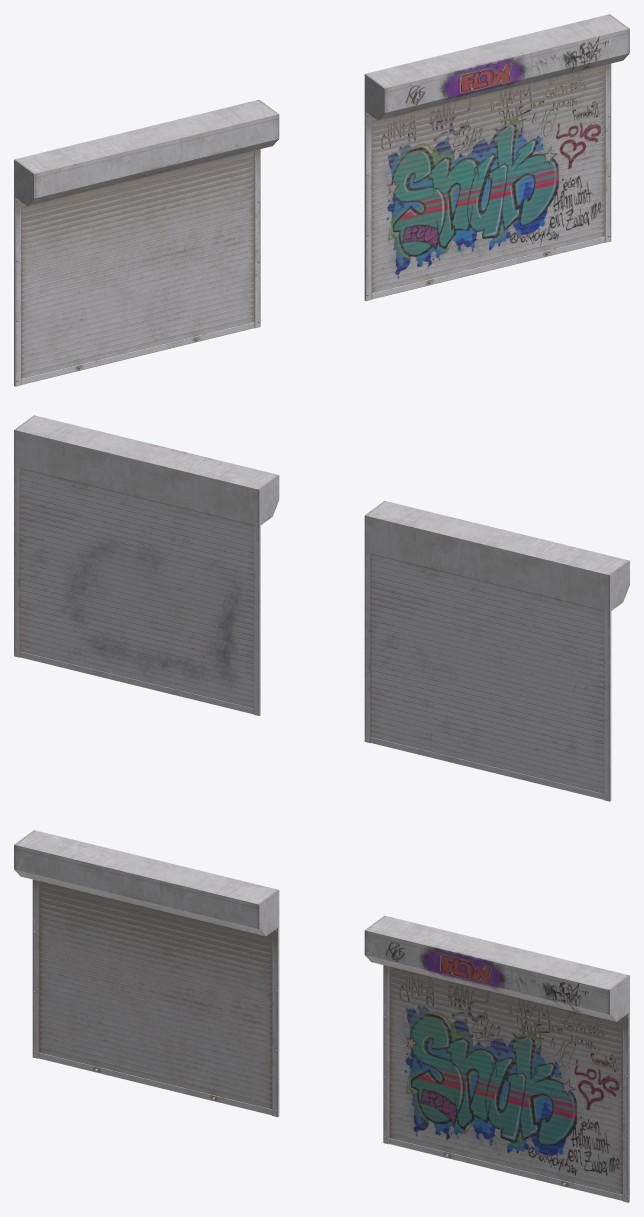
The model's file is window.glb.
The picture shows the model from 3 angles, top to bottom: view 1: azimuth 30°, elevation 25°; view 2: azimuth 150°, elevation 25°; view 3: azimuth 330°, elevation 25°; orthographic projection.
Parts seen in each view (by area): view 1: rollershutter_window_01_graffiti, rollershutter_window_01; view 2: rollershutter_window_01, rollershutter_window_01_graffiti; view 3: rollershutter_window_01, rollershutter_window_01_graffiti.
Part boxes in pixels (x1,y1,x2,y2): rollershutter_window_01_graffiti: [364, 14, 629, 301]; rollershutter_window_01: [14, 99, 279, 386]; rollershutter_window_01: [364, 501, 629, 801]; rollershutter_window_01_graffiti: [14, 415, 279, 715]; rollershutter_window_01: [14, 830, 279, 1117]; rollershutter_window_01_graffiti: [364, 915, 629, 1202].
Size of the model in its own units: 5.1 by 1.85 by 0.2999.
Materials: 2 (2 with a texture image).
